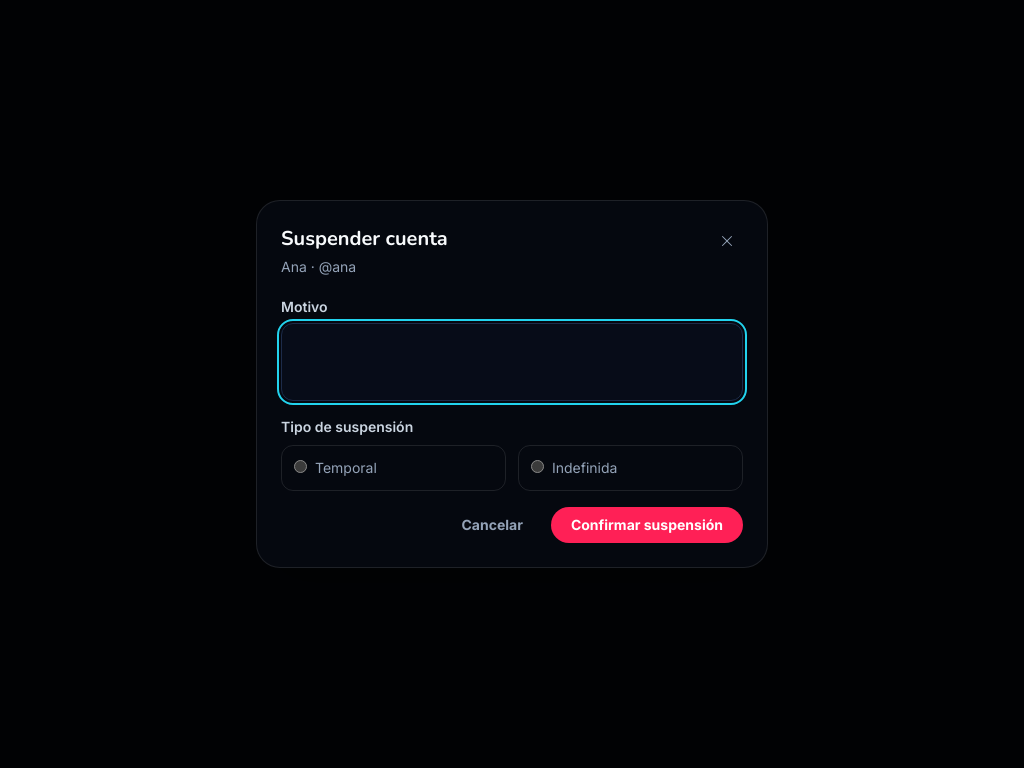
Test case: SuspensionModal › envía una suspensión indefinida y presenta errores de confirmación
The image size is (1024, 768).
Type "Incumplimiento" into the text box labelled "Motivo" at (512, 362), box [281,323,743,401]
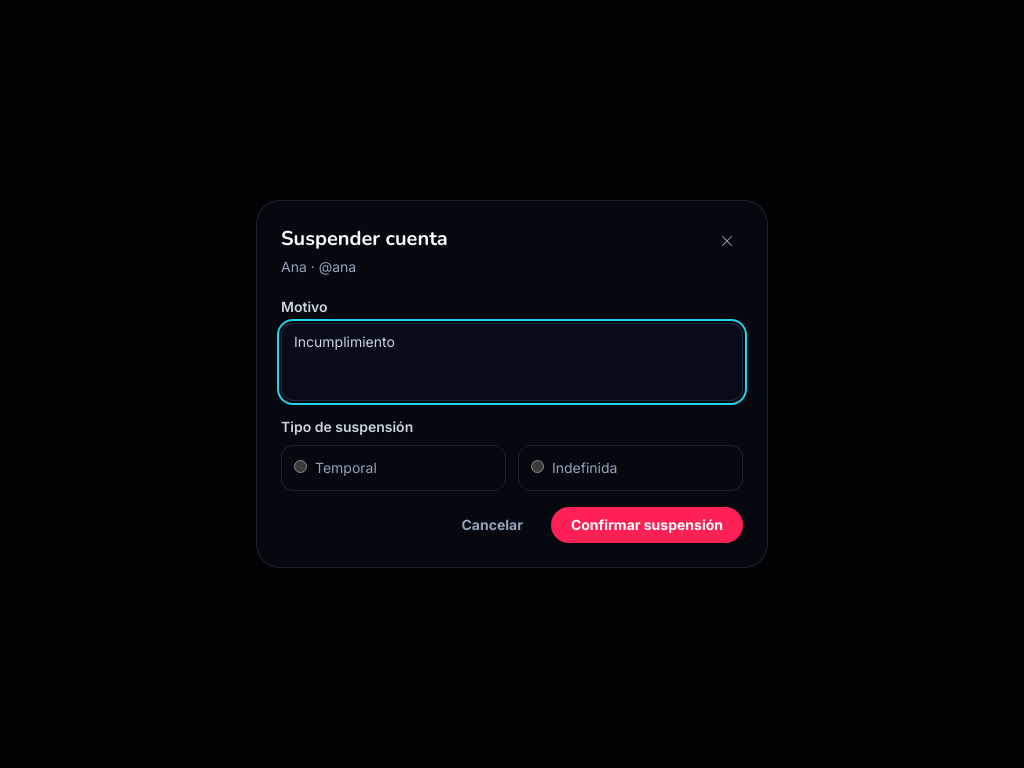
Click the radio button labelled "indefinida" at (538, 466), box [531,460,544,473]
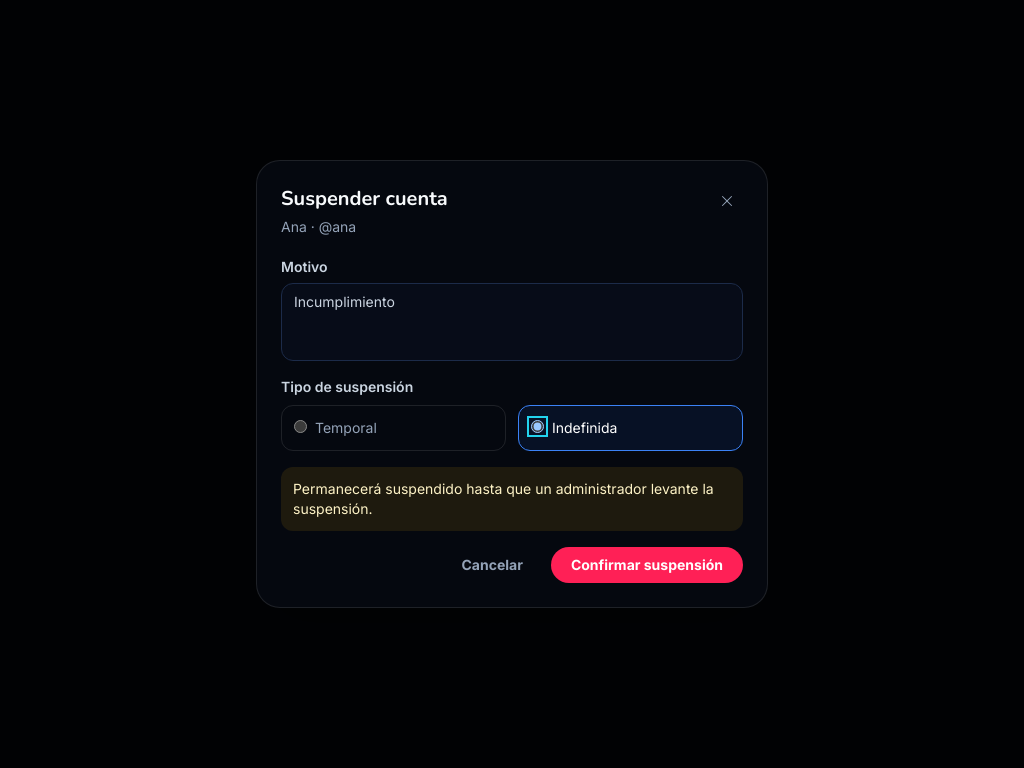
Expected: the text "hasta que un administrador" is shown, [293,480,714,517]
Click the button "Confirmar suspensión" at (647, 565), box [551,547,743,583]
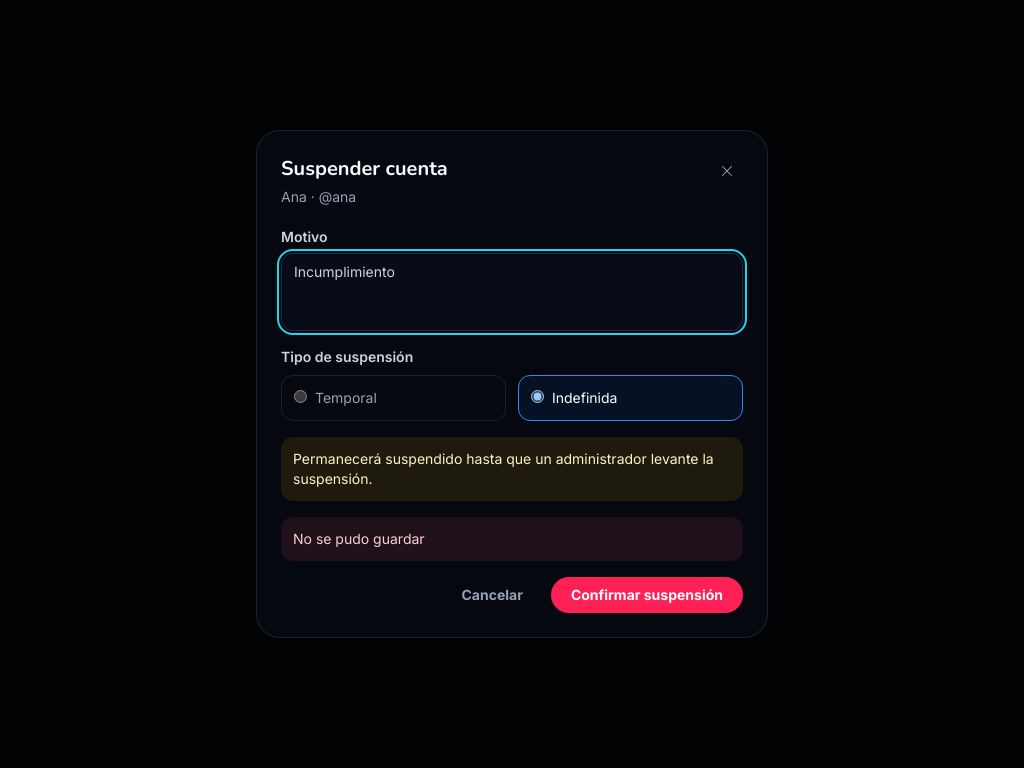
Expected: the message reads "No se pudo guardar", [293,530,425,547]
